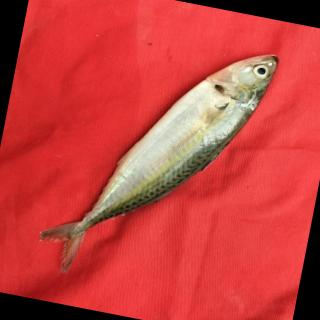Ikan: (33, 1, 289, 310)
